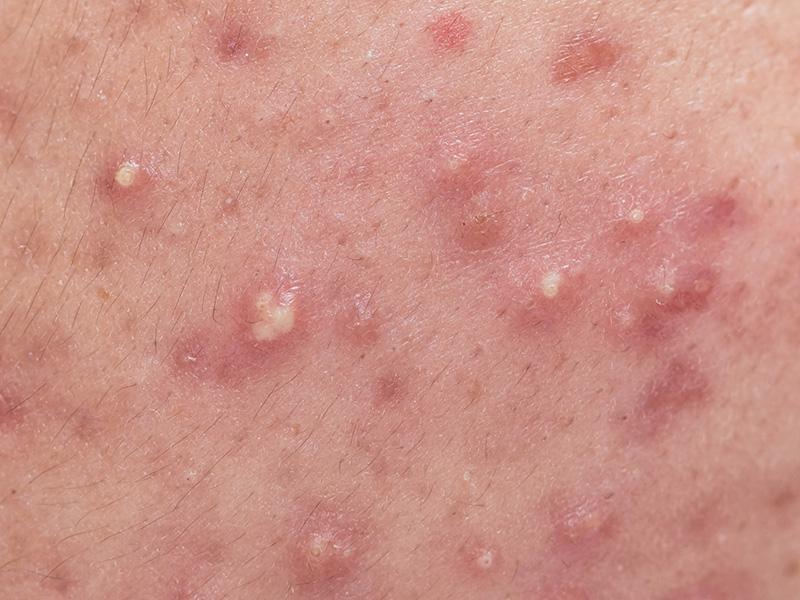blackhead: (243, 88, 290, 150), (352, 43, 393, 105), (596, 395, 638, 445), (313, 97, 344, 153), (340, 235, 376, 280), (411, 88, 448, 119)
purulent: (92, 144, 172, 212), (596, 198, 669, 266), (525, 253, 574, 323)
sebo-crystan-conglo: (286, 525, 396, 599), (235, 280, 321, 369), (549, 498, 637, 564), (634, 272, 740, 322)
